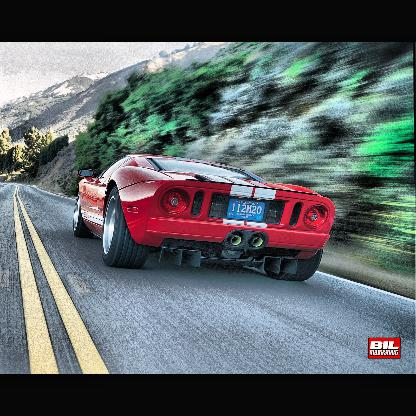Ford GT Coupe 2006: (73, 151, 336, 284)
